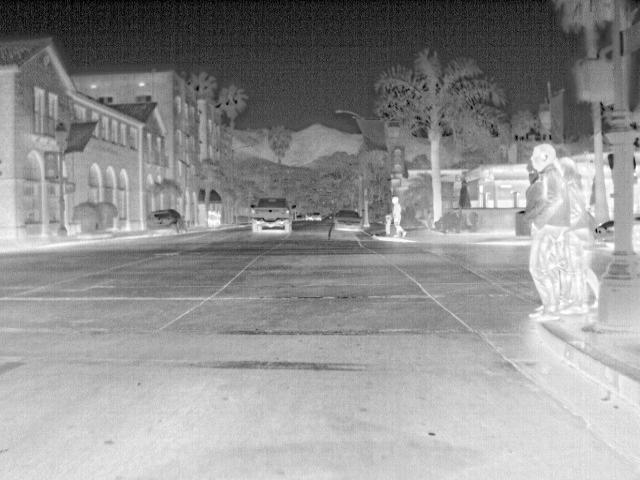car: (246, 198, 297, 235), (145, 207, 185, 237), (331, 209, 365, 234), (309, 211, 323, 222)
person: (526, 140, 569, 324), (558, 155, 600, 311), (390, 196, 407, 239)
